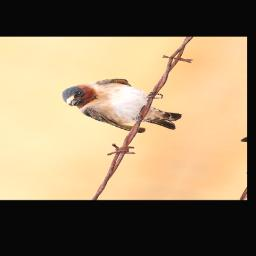Swallow: (46, 70, 199, 138)
